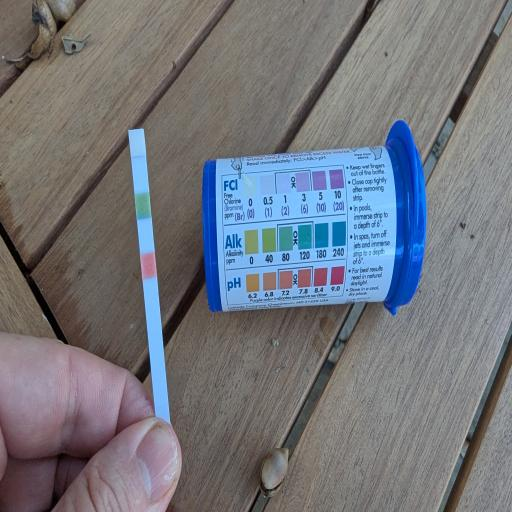label: (215, 144, 398, 314)
strip: (127, 128, 170, 424)
